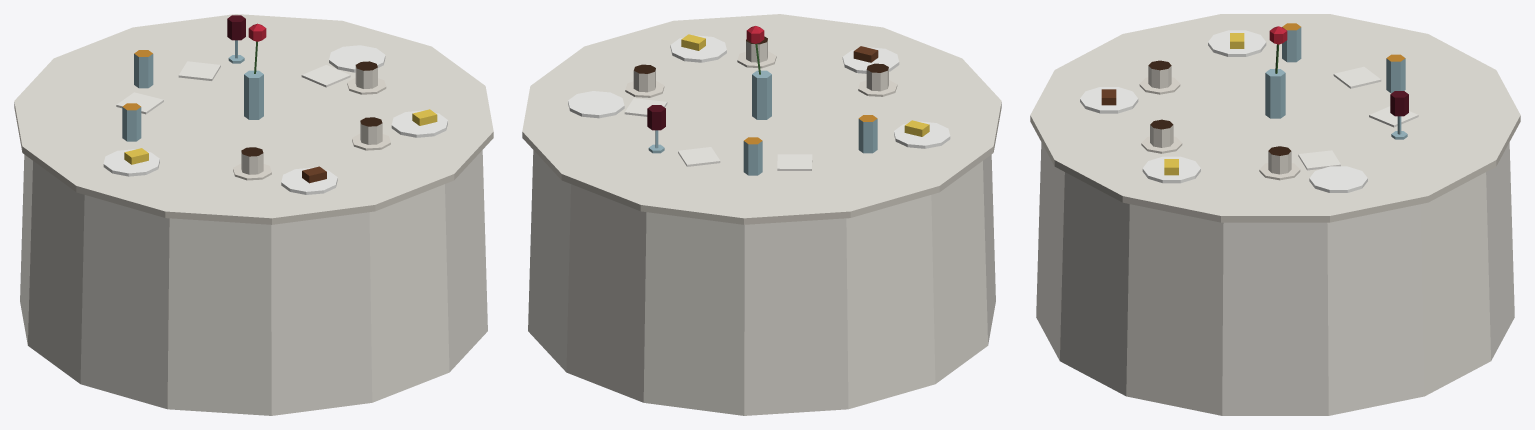
File: Table1.obj
3 views of the same model, side by side, from view 1: azimuth 30°, elevation 25°; view 2: azimuth 150°, elevation 25°; view 3: azimuth 270°, elevation 25° (orthographic).
Visible parts, largest first — view 1: Table1; view 2: Table1; view 3: Table1.
Part boxes in pixels (x1=…): Table1: x1=14, y1=14, x2=493, y2=415; Table1: x1=522, y1=14, x2=1001, y2=415; Table1: x1=1030, y1=14, x2=1520, y2=415.
Bounding box in the file's own units: 1.64 × 1.11 × 1.68.
Materials: 1 (1 with a texture image).
